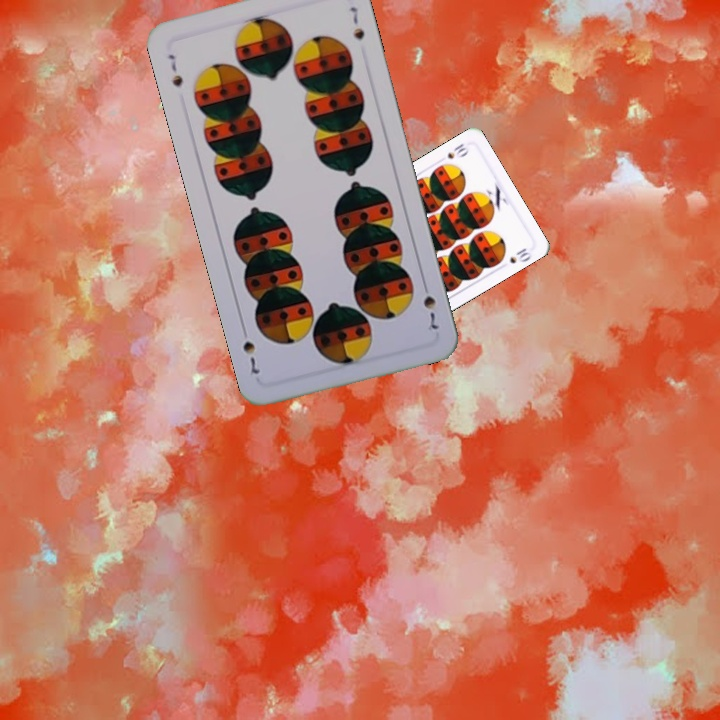S10: (443, 139, 471, 162)
S7: (418, 277, 441, 332), (163, 50, 186, 90)
